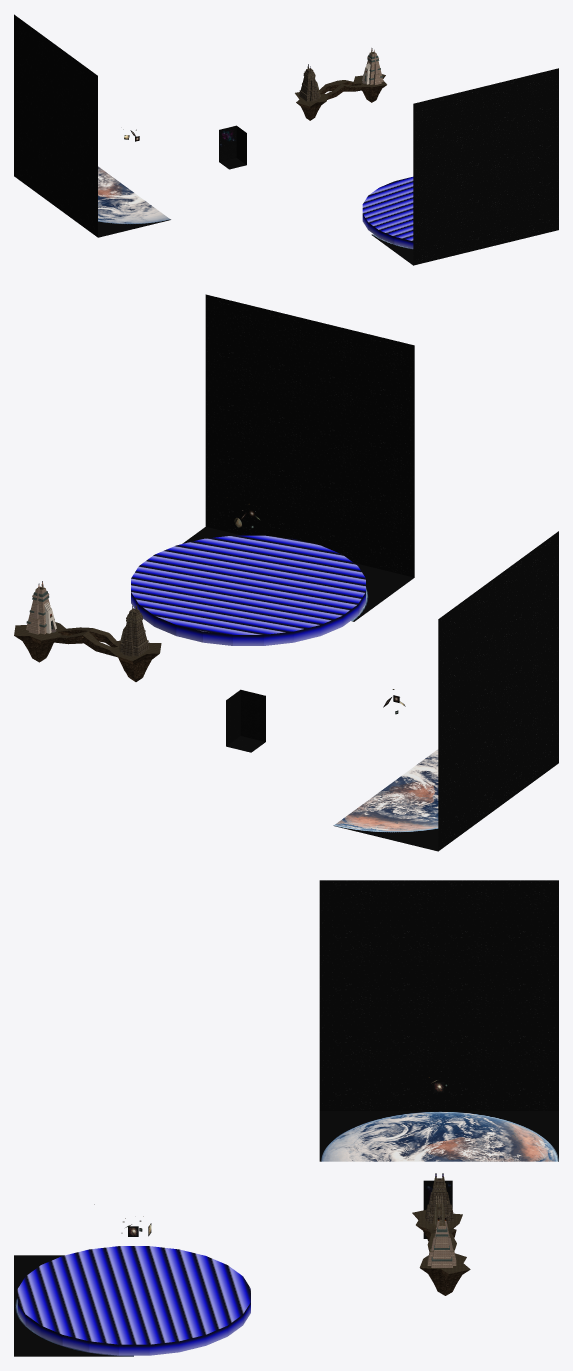
File: Facing Worlds.glb
3 renders of one model, top to bottom at view 1: azimuth 30°, elevation 25°; view 2: azimuth 150°, elevation 25°; view 3: azimuth 270°, elevation 25°, orthographic. The views are drawn at different scales.
Parts seen in each view (by area): view 1: world; view 2: world; view 3: world.
Boxes of the visible parts, <box> form: world: <box>14,14,558,265</box>; world: <box>14,294,558,851</box>; world: <box>14,880,558,1356</box>.
Size of the model in its own units: 1012 by 443 by 949.
49 materials, 49 textured.
